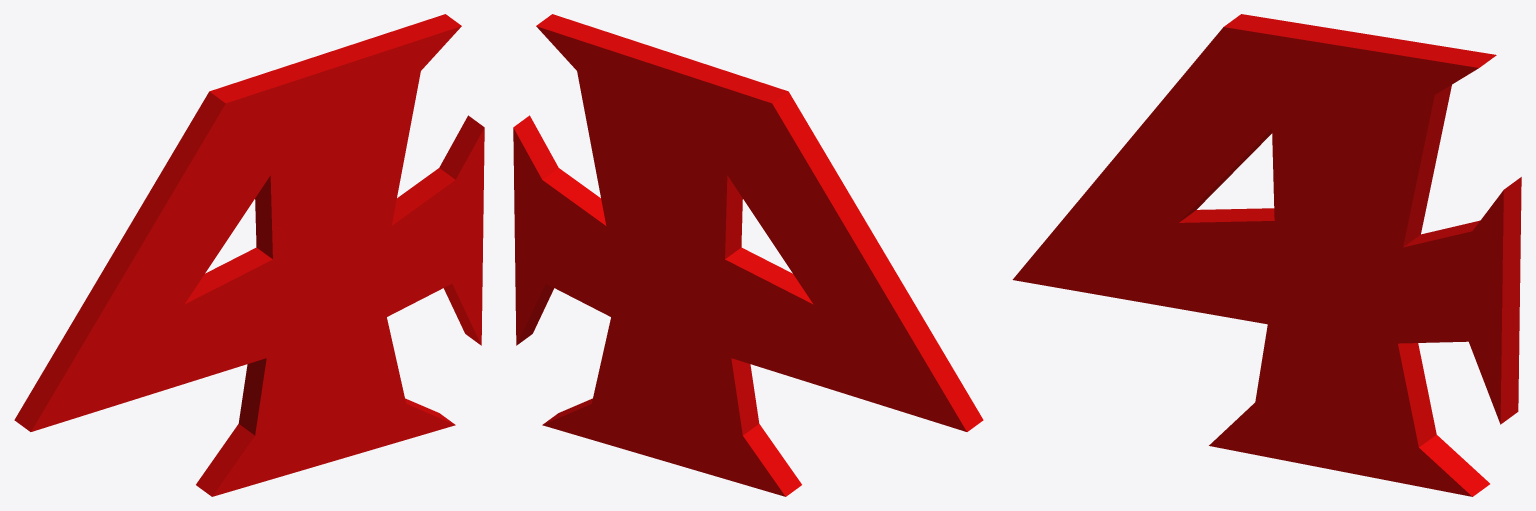
The picture shows the model from 3 angles, left to right: view 1: azimuth 30°, elevation 25°; view 2: azimuth 150°, elevation 25°; view 3: azimuth 330°, elevation 25°; orthographic projection. The views are drawn at different scales.
Visible parts, largest first — view 1: Trim_Char_x_1_1; view 2: Trim_Char_x_1_1; view 3: Trim_Char_x_1_1.
Boxes of the visible parts, x1,y1,x2,y2 form: Trim_Char_x_1_1: (14, 14, 484, 496); Trim_Char_x_1_1: (513, 14, 983, 496); Trim_Char_x_1_1: (1012, 14, 1521, 496).
Bounding box in the file's own units: 0.8532 × 0.7363 × 0.0536.
